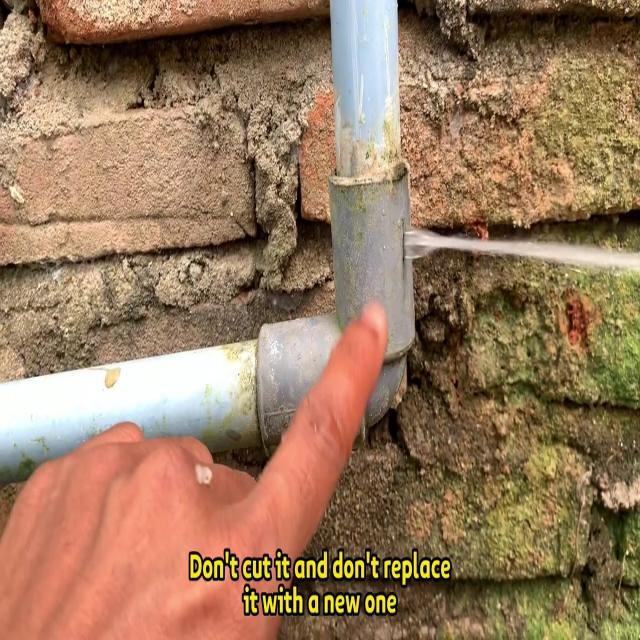leak: (402, 222, 640, 279)
